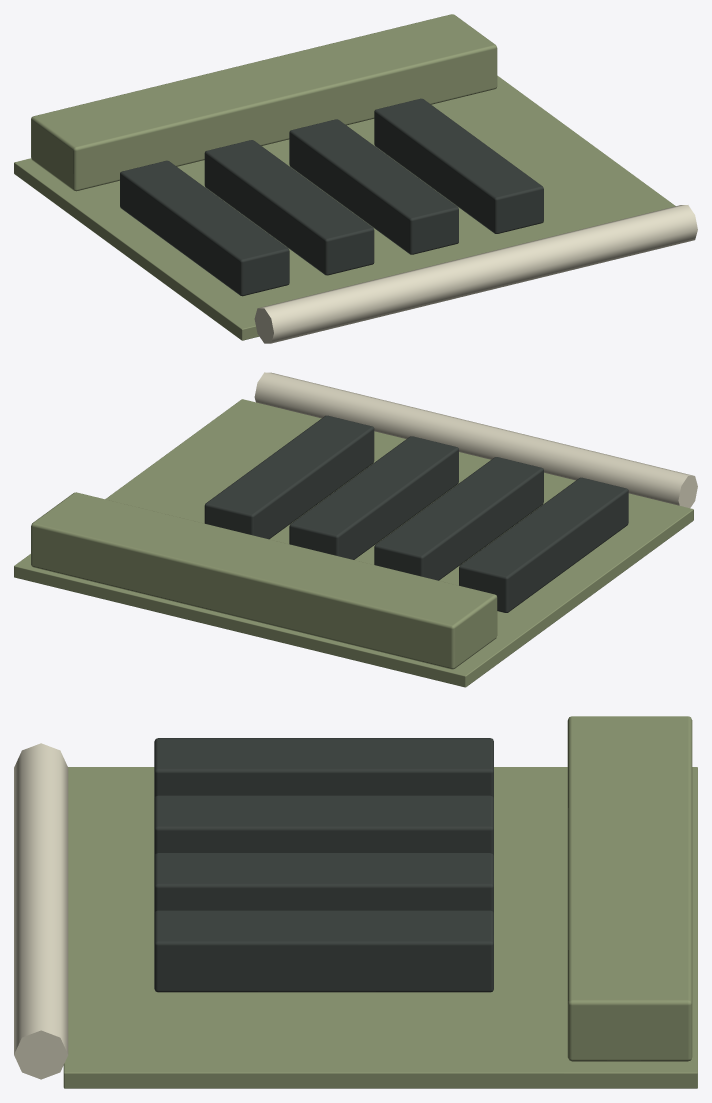
The model's file is backpacks-and-expedition-storage-knife-roll-7d19a3ab__21080.glb.
The picture shows the model from 3 angles, top to bottom: view 1: azimuth 30°, elevation 25°; view 2: azimuth 150°, elevation 25°; view 3: azimuth 270°, elevation 25°; orthographic projection. The views are drawn at different scales.
Visible parts, largest first — view 1: knife-roll; view 2: knife-roll; view 3: knife-roll.
Part boxes in pixels (x1,y1,x2,y2): knife-roll: [14, 14, 697, 343]; knife-roll: [14, 372, 697, 687]; knife-roll: [14, 716, 697, 1088].
Size of the model in its own units: 0.32 by 0.038 by 0.302.
